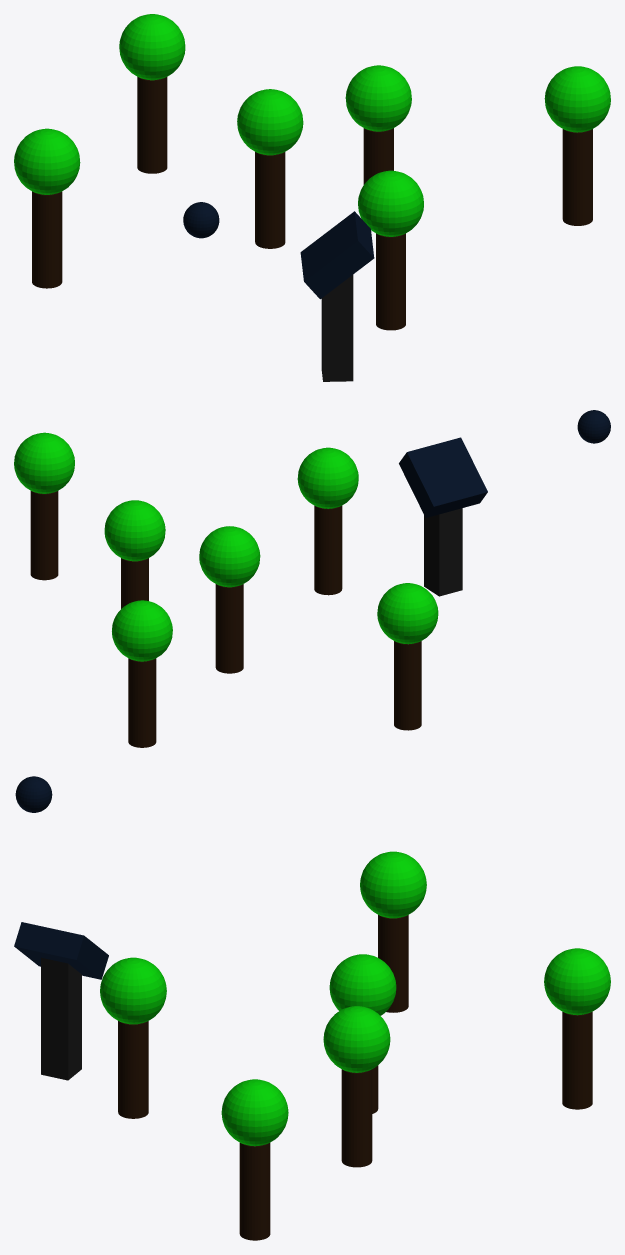
Rendered from exercise20008.obj.
3 views of the same model, one above another, from view 1: azimuth 30°, elevation 25°; view 2: azimuth 150°, elevation 25°; view 3: azimuth 270°, elevation 25° (orthographic). The views are drawn at different scales.
Visible parts, largest first — view 1: Cube.001, Sphere, Sphere.003, Sphere.005, Sphere.002, Sphere.006, Sphere.004, Cube, Cylinder.003, Cylinder.006, Cylinder.005, Cylinder.002 (+3 smaller); view 2: Cube.001, Cube, Sphere, Sphere.003, Sphere.002, Sphere.005, Sphere.004, Sphere.006, Cylinder.002, Cylinder.003, Cylinder.005, Cylinder.004 (+4 smaller); view 3: Cube, Sphere.003, Sphere.004, Sphere.006, Sphere.005, Sphere, Sphere.002, Cube.001, Cylinder.003, Cylinder.005, Cylinder.004, Cylinder (+3 smaller).
Boxes of the visible parts, x1=… form: Cube.001: x1=300, y1=211, x2=374, y2=299; Sphere: x1=345, y1=65, x2=411, y2=131; Sphere.003: x1=544, y1=66, x2=610, y2=132; Sphere.005: x1=119, y1=14, x2=185, y2=80; Sphere.002: x1=237, y1=89, x2=303, y2=155; Sphere.006: x1=14, y1=128, x2=80, y2=194; Sphere.004: x1=358, y1=170, x2=423, y2=236; Cube: x1=321, y1=275, x2=353, y2=381; Cylinder.003: x1=562, y1=129, x2=592, y2=225; Cylinder.006: x1=32, y1=191, x2=62, y2=288; Cylinder.005: x1=137, y1=77, x2=167, y2=173; Cylinder.002: x1=255, y1=152, x2=285, y2=248; Cube.001: x1=399, y1=437, x2=487, y2=517; Cube: x1=424, y1=508, x2=462, y2=596; Sphere: x1=104, y1=500, x2=165, y2=561; Sphere.003: x1=14, y1=432, x2=74, y2=493; Sphere.002: x1=199, y1=526, x2=260, y2=587; Sphere.005: x1=112, y1=600, x2=172, y2=661; Sphere.004: x1=297, y1=447, x2=358, y2=508; Sphere.006: x1=377, y1=583, x2=438, y2=644; Cylinder.002: x1=215, y1=584, x2=243, y2=673; Cylinder.003: x1=30, y1=491, x2=58, y2=580; Cylinder.005: x1=128, y1=658, x2=156, y2=747; Cylinder.004: x1=314, y1=505, x2=342, y2=595; Cube: x1=41, y1=957, x2=81, y2=1080; Sphere.003: x1=221, y1=1079, x2=288, y2=1146; Sphere.004: x1=100, y1=957, x2=166, y2=1024; Sphere.006: x1=360, y1=851, x2=426, y2=918; Sphere.005: x1=544, y1=948, x2=610, y2=1015; Sphere: x1=323, y1=1006, x2=390, y2=1072; Sphere.002: x1=329, y1=954, x2=396, y2=1015; Cube.001: x1=14, y1=922, x2=108, y2=979; Cylinder.003: x1=239, y1=1143, x2=270, y2=1240; Cylinder.005: x1=562, y1=1011, x2=592, y2=1109; Cylinder.004: x1=118, y1=1021, x2=148, y2=1118; Cylinder: x1=341, y1=1069, x2=372, y2=1167.
Size of what is drawn, in the model's own units: 40.53 by 15.92 by 39.13.
